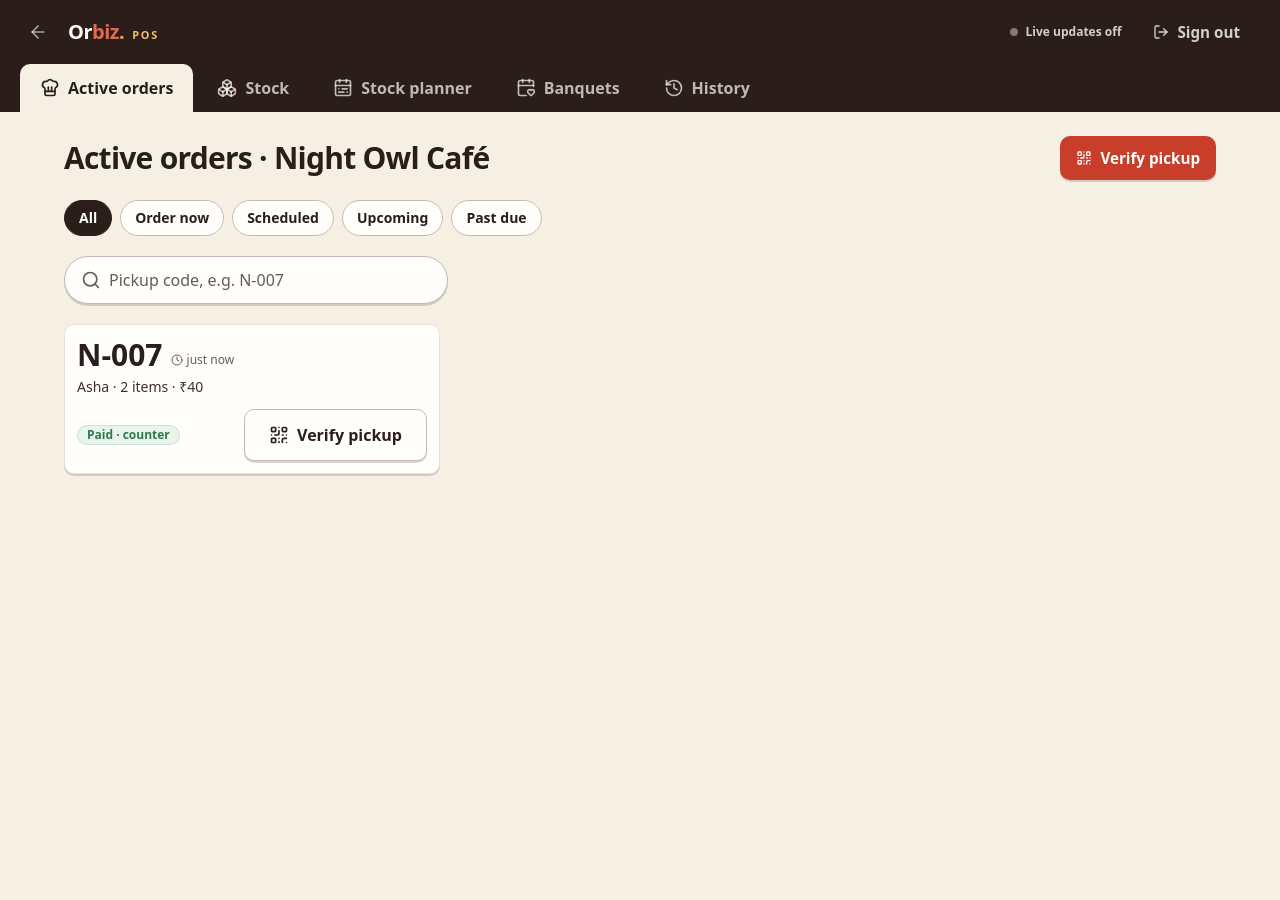
staff verify pickup › shows how many tries are left after a wrong code
The width and height of the screenshot is (1280, 900).
Click the button "Verify pickup" in the row of "Night Owl Café" at x=1138, y=158, box [1060,136,1216,180]
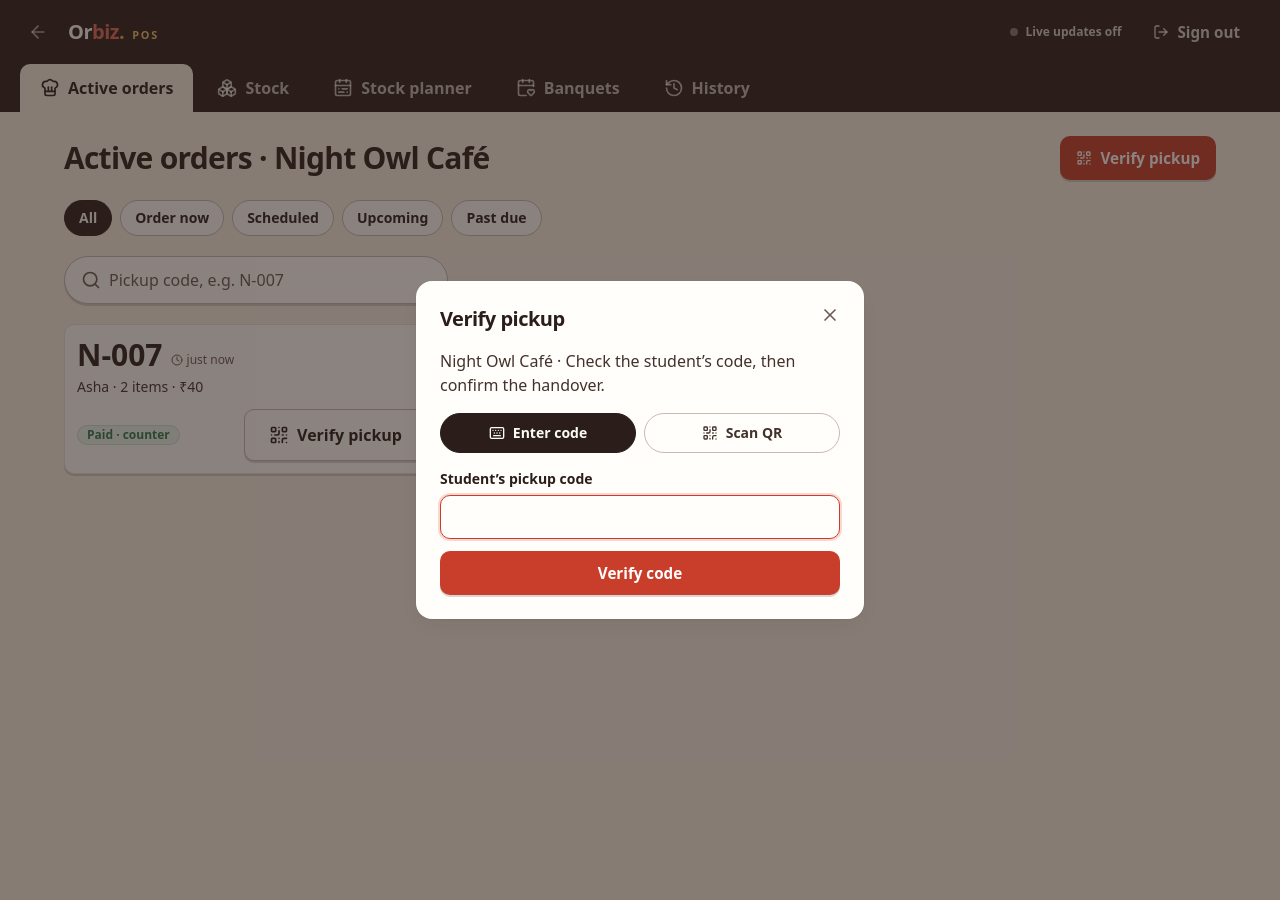
Type "111222" into the field labelled "Student’s pickup code" at x=640, y=517, box [453,496,827,538]
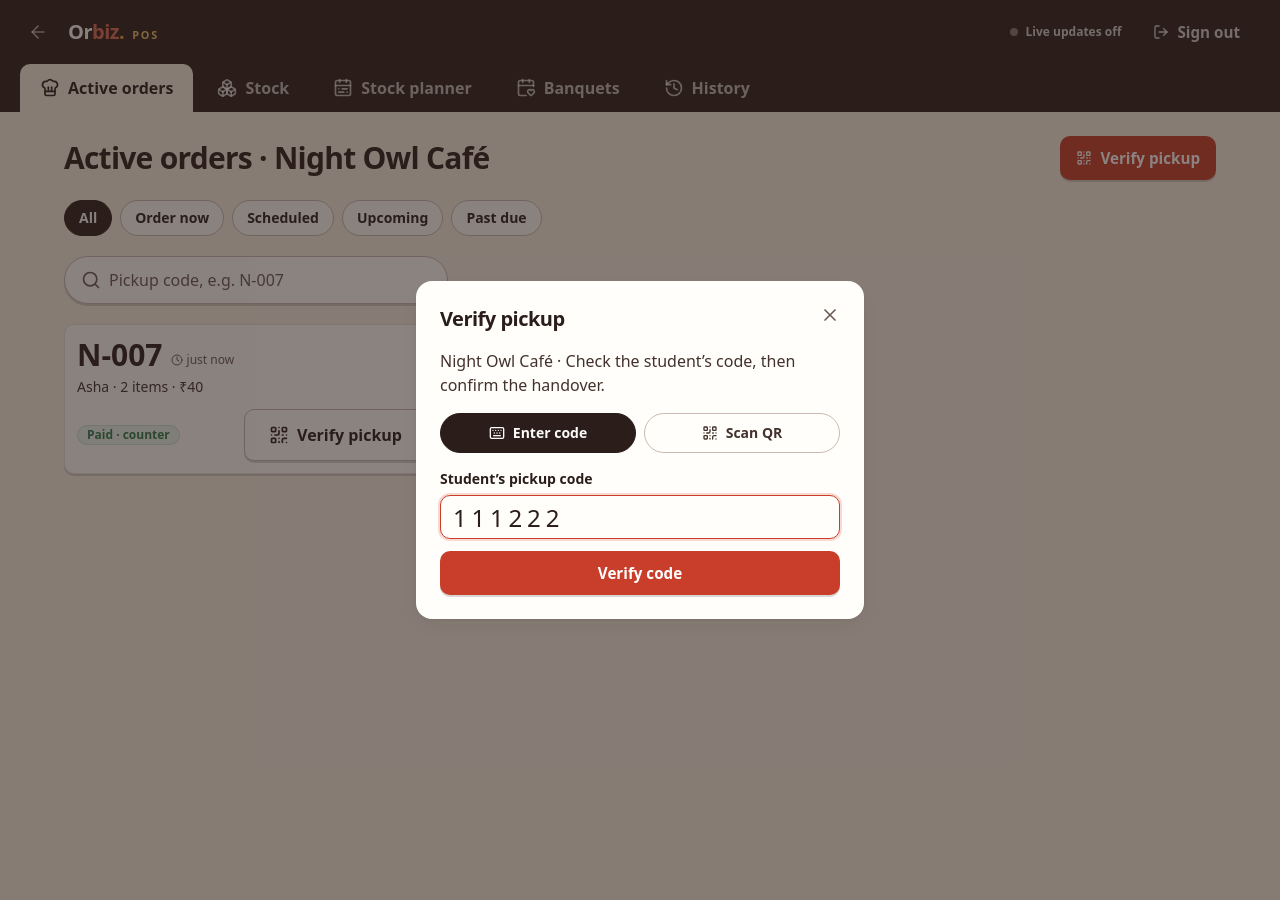
Click the button "Verify code" at x=640, y=573, box [440,551,840,595]
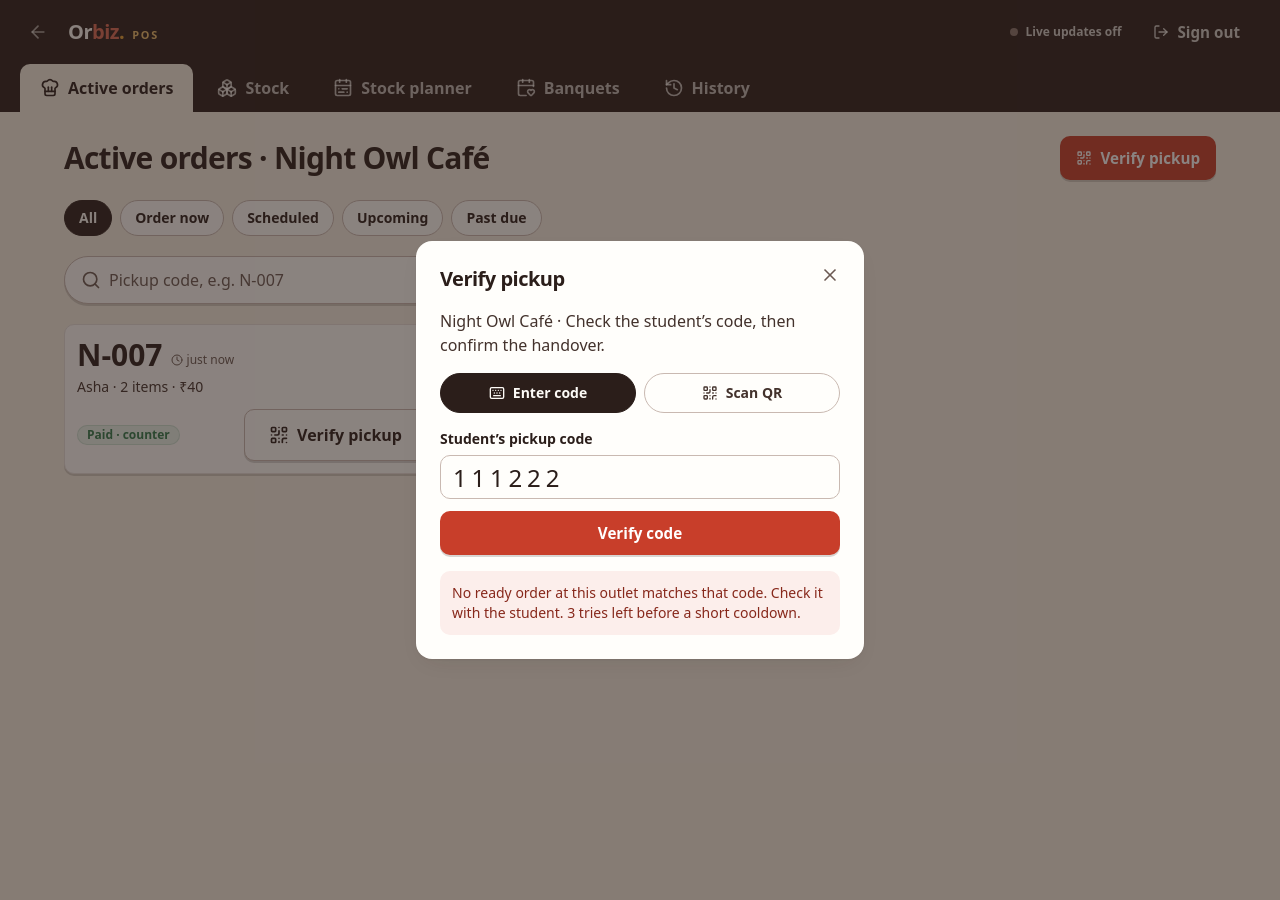
Expected: the message shows "No ready order at this outlet matches that code. Check it with the student. 3 tries left before a short cooldown.", [452,583,823,622]
